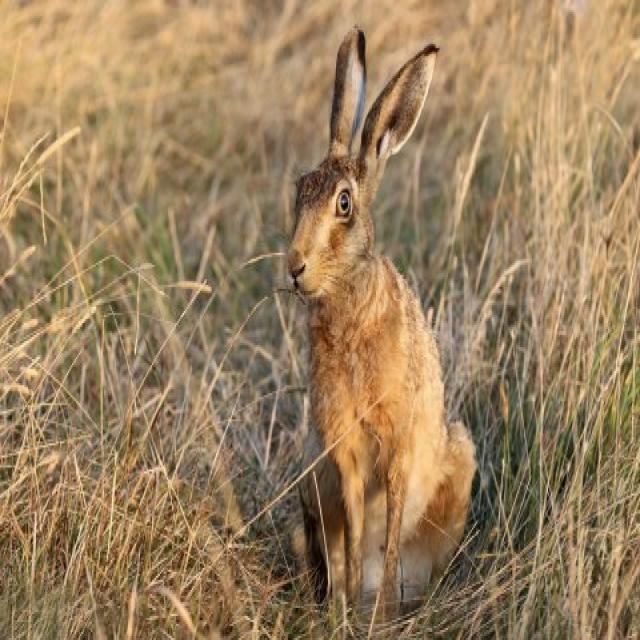hare: (288, 26, 476, 620)
